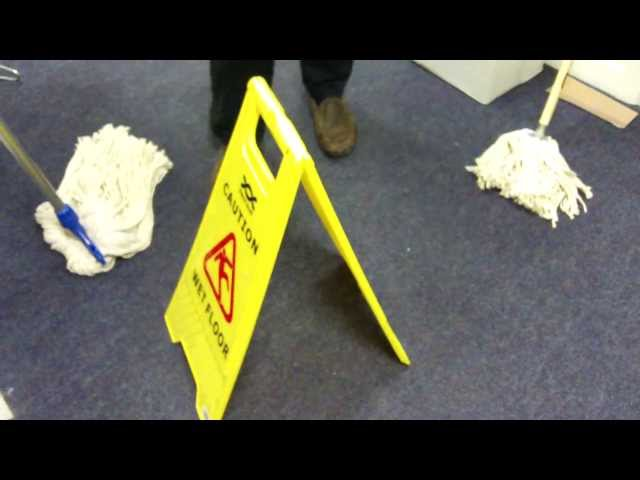wet caution sign: (168, 76, 440, 424)
